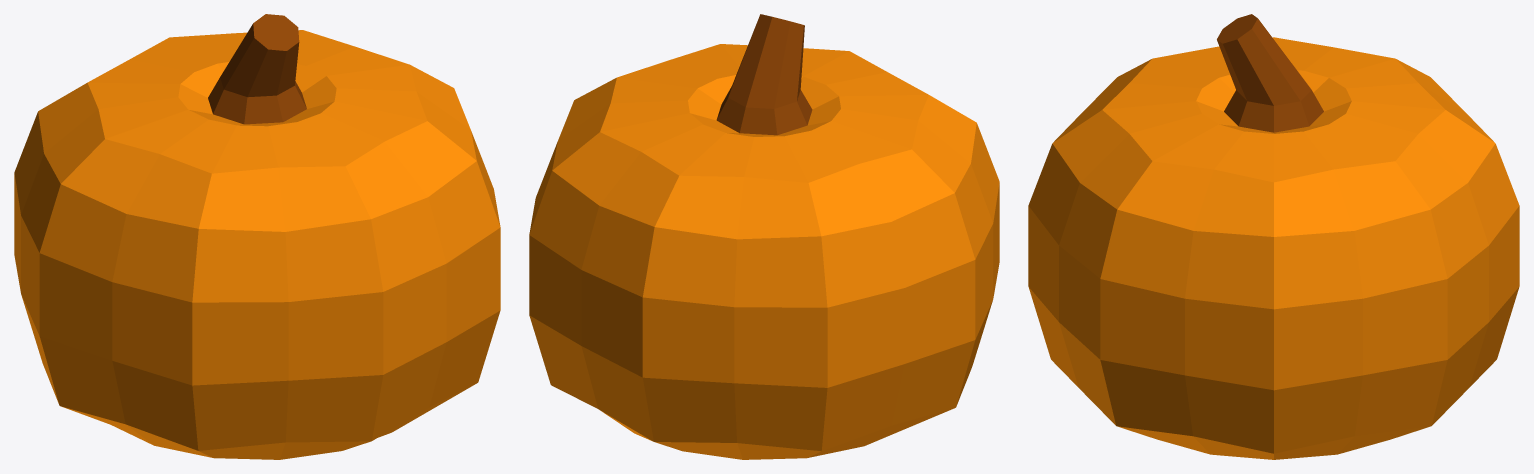
File: pumpkin01.obj
The picture shows the model from 3 angles, left to right: view 1: azimuth 30°, elevation 25°; view 2: azimuth 150°, elevation 25°; view 3: azimuth 270°, elevation 25°; orthographic projection. The views are drawn at different scales.
Visible parts, largest first — view 1: Cylinder; view 2: Cylinder; view 3: Cylinder.
Boxes of the visible parts, bbox=[...] form: Cylinder: bbox=[14, 14, 500, 459]; Cylinder: bbox=[529, 14, 999, 459]; Cylinder: bbox=[1028, 14, 1519, 459].
Size of the model in its own units: 0.2047 by 0.1761 by 0.2047.
Materials: 1 (1 with a texture image).
